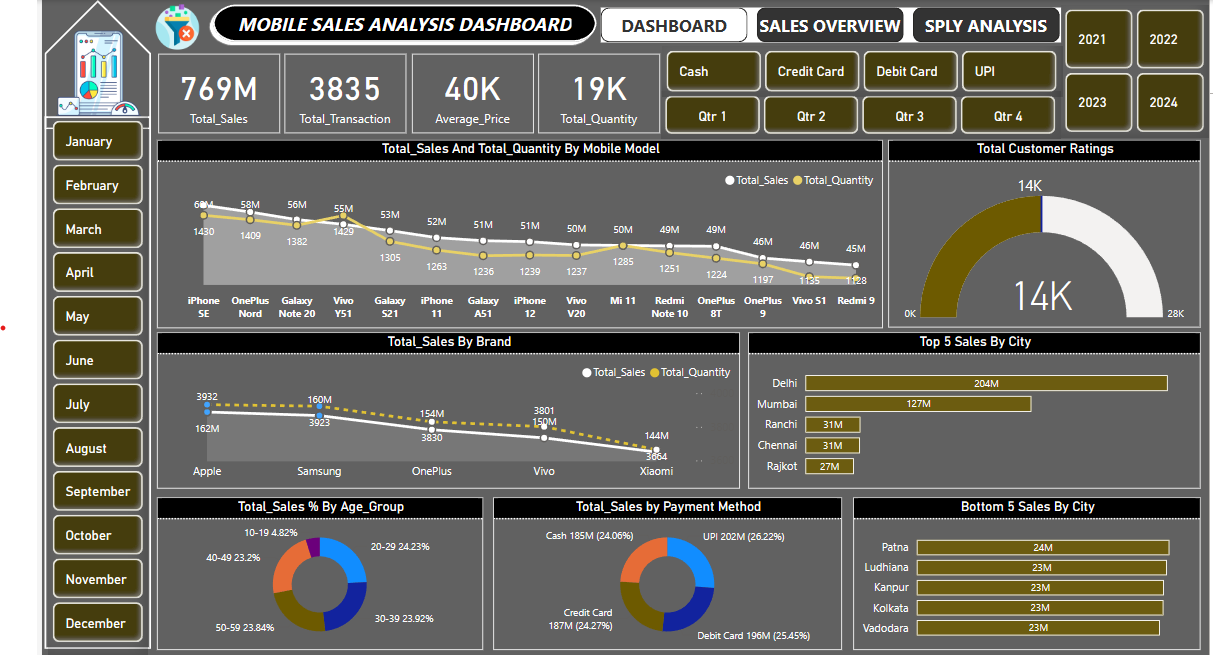

This screenshot's page, from the dashboard's own definition file:
{"tool":"powerbi","page":{"name":"DASHBOARD","canvas":[1280,720],"ordinal":0},"visuals":[{"type":"shape","box":[181.7,0,430.9,50.9],"z":0},{"type":"card","fields":{"Values":["Mobile_Sales_Data.Total_Sales"]},"box":[128,59.2,133.6,86.9],"z":1000,"group":"g1"},{"type":"shape","box":[2.8,128,116.9,584.3],"z":1000},{"type":"shape","box":[2.8,0,116.9,141.9],"z":2000},{"type":"card","fields":{"Values":["Mobile_Sales_Data.Total_Transaction"]},"box":[267.1,59.2,133.6,86.9],"z":2000,"group":"g1"},{"type":"image","box":[7,27.8,109.9,105.7],"z":3000},{"type":"card","fields":{"Values":["Mobile_Sales_Data.Average_Sales"]},"box":[406.3,59.2,133.6,86.9],"z":3000,"group":"g1"},{"type":"group","id":"g1","title":"Group 1","box":[128,59.2,550.7,86],"z":4000},{"type":"card","fields":{"Values":["Mobile_Sales_Data.Total_Quantity"]},"box":[545.4,59.2,133.6,86.9],"z":4000,"group":"g1"},{"type":"advancedSlicerVisual","fields":{"Values":["Custom_Calender.Date.Variation.Date Hierarchy.Month"]},"box":[6.9,127.6,109.8,592.8],"z":5000},{"type":"advancedSlicerVisual","fields":{"Values":["Custom_Calender.Date.Variation.Date Hierarchy.Quarter"]},"box":[678.7,100.5,439.1,52.3],"z":6000},{"type":"gauge","title":"Total Customer Ratings ","fields":{"TargetValue":["Sum(Mobile_Sales_Data.Customer Ratings)"],"Y":["Sum(Mobile_Sales_Data.Customer Ratings)"]},"box":[928,153.5,342.7,205.6],"z":7000},{"type":"donutChart","title":"Total_Sales % By Age_Group","fields":{"Category":["Mobile_Sales_Data.Age_Group"],"Y":["Divide(Mobile_Sales_Data.Total_Sales, ScopedEval(Mobile_Sales_Data.Total_Sales, []))"]},"box":[126.1,545.6,357.8,167.2],"z":8000},{"type":"lineChart","title":"Total_Sales And Total_Quantity By Mobile Model","fields":{"Category":["Mobile_Sales_Data.Mobile Model"],"Y":["Mobile_Sales_Data.Total_Sales"],"Y2":["Mobile_Sales_Data.Total_Quantity"]},"box":[126.4,153.4,796.3,206.1],"z":9000},{"type":"lineChart","title":"Total_Sales By Brand","fields":{"Y":["Mobile_Sales_Data.Total_Sales"],"Y2":["Mobile_Sales_Data.Total_Quantity"],"Category":["Mobile_Sales_Data.Brand"]},"box":[126.2,365,639.5,171.5],"z":10000},{"type":"donutChart","fields":{"Category":["Mobile_Sales_Data.Payment Method"],"Y":["Mobile_Sales_Data.Total_Sales"]},"box":[494.8,545.6,382.4,167.2],"z":11000},{"type":"advancedSlicerVisual","fields":{"Values":["Mobile_Sales_Data.Payment Method"]},"box":[680.1,50.9,439.1,55.1],"z":12000},{"type":"advancedSlicerVisual","fields":{"Values":["Custom_Calender.Date.Variation.Date Hierarchy.Year"]},"box":[1116.9,5.5,163.1,145.3],"z":13000},{"type":"barChart","title":"Top 5 Sales By City","fields":{"Category":["Mobile_Sales_Data.City"],"Y":["Mobile_Sales_Data.Total_Sales"]},"box":[774.5,364.6,496.2,171.3],"z":14000},{"type":"barChart","title":"Bottom 5 Sales By City","fields":{"Category":["Mobile_Sales_Data.City"],"Y":["Mobile_Sales_Data.Total_Sales"]},"box":[889.6,545.6,381.1,167],"z":15000},{"type":"image","box":[117,0,64.7,59.2],"z":16000},{"type":"pageNavigator","box":[612.7,8.2,504.4,38.4],"z":17000}]}

Visuals, with their boxes on the page's 1280x720 design canvas (x1, y1, x2, y2). These are canvas units, not pixel positions in the 1213x655 screenshot, which may show the page scaled, cropped or inside an application window:
shape: 182,0,613,51
card - Mobile_Sales_Data.Total_Sales: 128,59,262,146
shape: 3,128,120,712
shape: 3,0,120,142
card - Mobile_Sales_Data.Total_Transaction: 267,59,401,146
image: 7,28,117,134
card - Mobile_Sales_Data.Average_Sales: 406,59,540,146
"Group 1" group: 128,59,679,145
card - Mobile_Sales_Data.Total_Quantity: 545,59,679,146
advancedSlicerVisual - Custom_Calender.Date.Variation.Date Hierarchy.Month: 7,128,117,720
advancedSlicerVisual - Custom_Calender.Date.Variation.Date Hierarchy.Quarter: 679,100,1118,153
"Total Customer Ratings " gauge: 928,154,1271,359
"Total_Sales % By Age_Group" donutChart: 126,546,484,713
"Total_Sales And Total_Quantity By Mobile Model" lineChart: 126,153,923,360
"Total_Sales By Brand" lineChart: 126,365,766,536
donutChart - Mobile_Sales_Data.Payment Method x Mobile_Sales_Data.Total_Sales: 495,546,877,713
advancedSlicerVisual - Mobile_Sales_Data.Payment Method: 680,51,1119,106
advancedSlicerVisual - Custom_Calender.Date.Variation.Date Hierarchy.Year: 1117,6,1280,151
"Top 5 Sales By City" barChart: 774,365,1271,536
"Bottom 5 Sales By City" barChart: 890,546,1271,713
image: 117,0,182,59
pageNavigator: 613,8,1117,47
